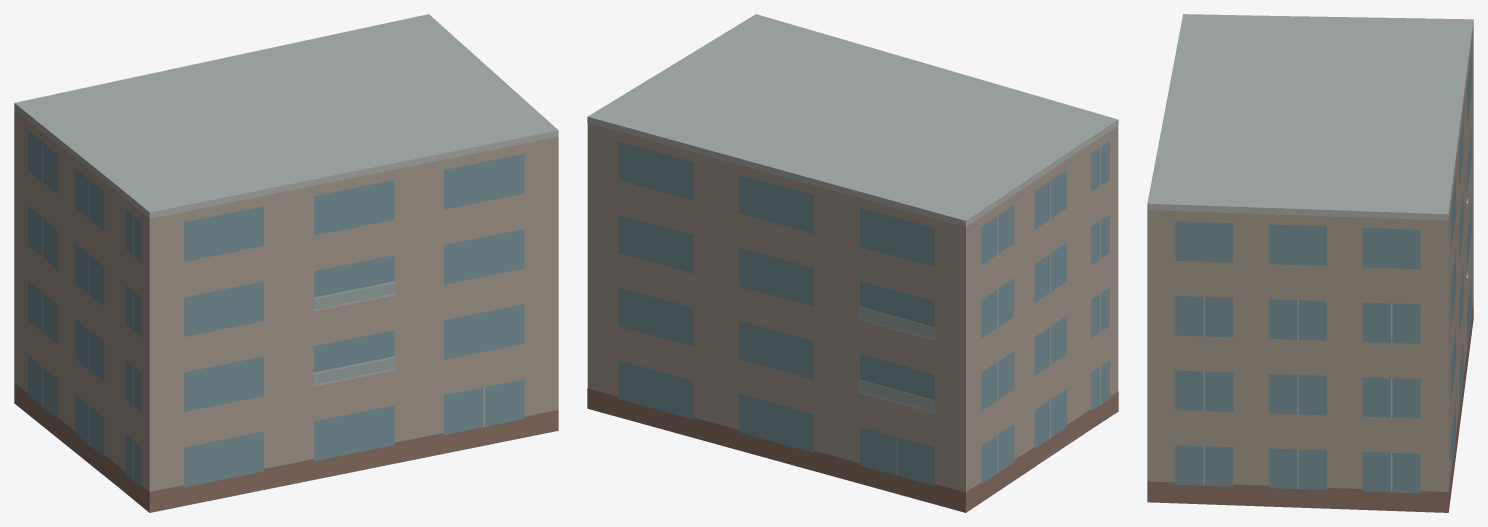
File: survey-upis-32754470.glb
The picture shows the model from 3 angles, left to right: view 1: azimuth 30°, elevation 25°; view 2: azimuth 150°, elevation 25°; view 3: azimuth 270°, elevation 25°; orthographic projection. The views are drawn at different scales.
Visible parts, largest first — view 1: survey-upis-32754470.tmp; view 2: survey-upis-32754470.tmp; view 3: survey-upis-32754470.tmp.
Boxes of the visible parts, x1,y1,x2,y2 form: survey-upis-32754470.tmp: [14, 14, 558, 512]; survey-upis-32754470.tmp: [587, 14, 1118, 512]; survey-upis-32754470.tmp: [1147, 14, 1473, 512].
Bounding box in the file's own units: 16.4 × 11.4 × 11.3.
